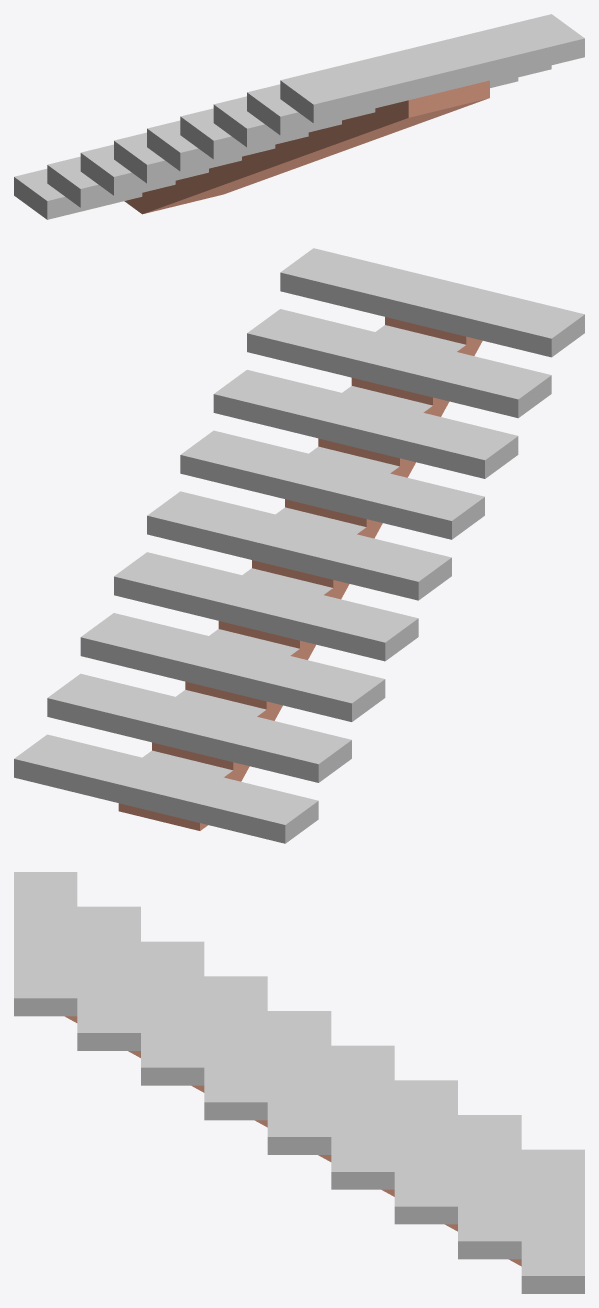
The model's file is stairsLong.glb.
3 renders of one model, top to bottom at view 1: azimuth 30°, elevation 25°; view 2: azimuth 150°, elevation 25°; view 3: azimuth 270°, elevation 25°, orthographic. The views are drawn at different scales.
Visible parts, largest first — view 1: stairsLong; view 2: stairsLong; view 3: stairsLong.
Boxes of the visible parts, x1=… form: stairsLong: x1=14, y1=14, x2=584, y2=219; stairsLong: x1=14, y1=248, x2=584, y2=843; stairsLong: x1=14, y1=872, x2=584, y2=1293.
Bounding box in the file's own units: 4.83 × 5.58 × 9.24.
